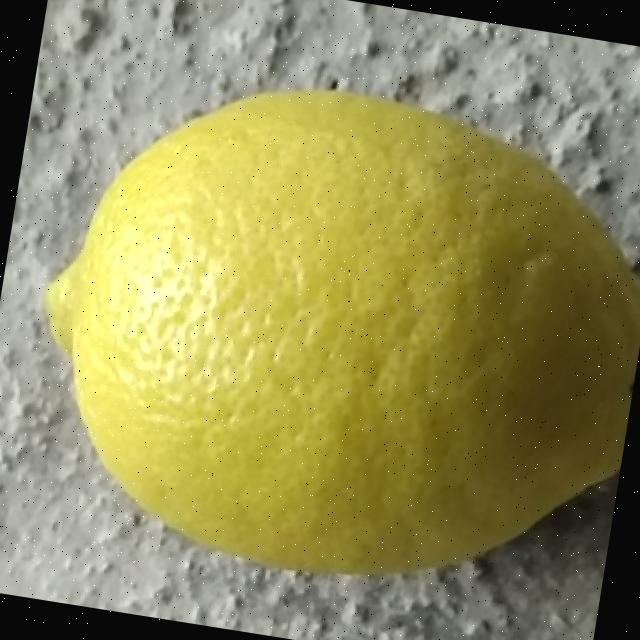Ripe: (1, 42, 640, 619)
